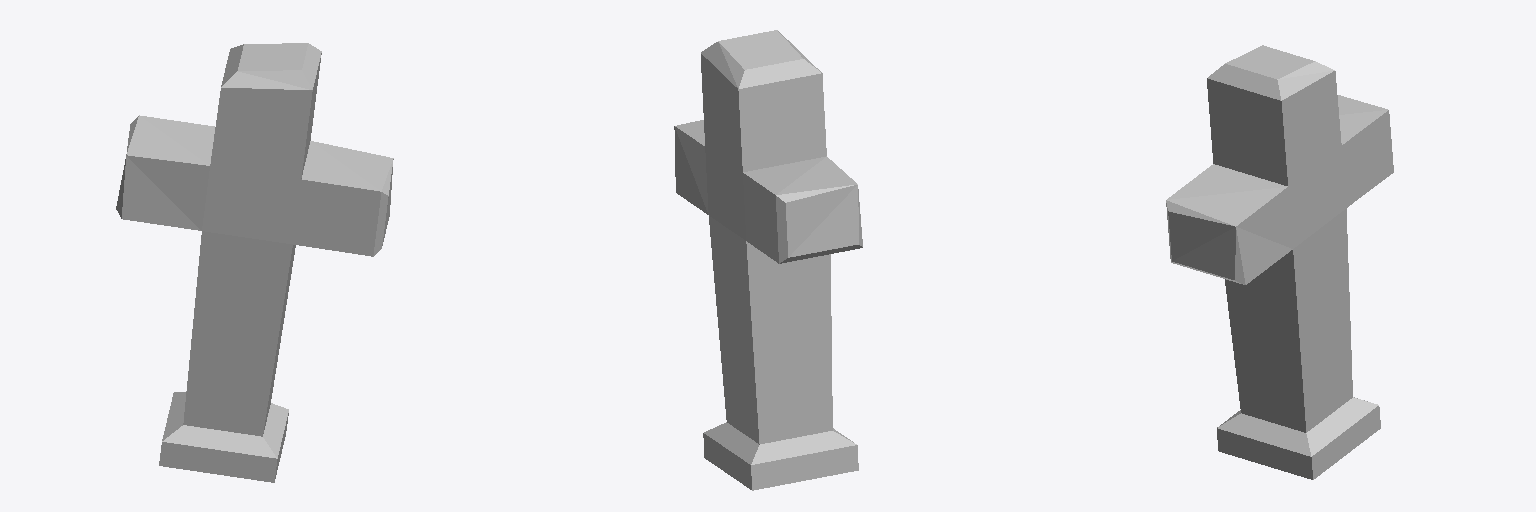
The model's file is Gravestone 2 test.obj.
The picture shows the model from 3 angles: view 1: azimuth 30°, elevation 25°; view 2: azimuth 150°, elevation 25°; view 3: azimuth 270°, elevation 25°; orthographic projection.
Parts seen in each view (by area): view 1: Cross_1; view 2: Cross_1; view 3: Cross_1.
Part boxes in pixels (x1,y1,x2,y2): Cross_1: (116, 43, 393, 482); Cross_1: (674, 30, 862, 490); Cross_1: (1166, 45, 1393, 479).
Bounding box in the file's own units: 0.7792 × 1.3 × 0.6658.